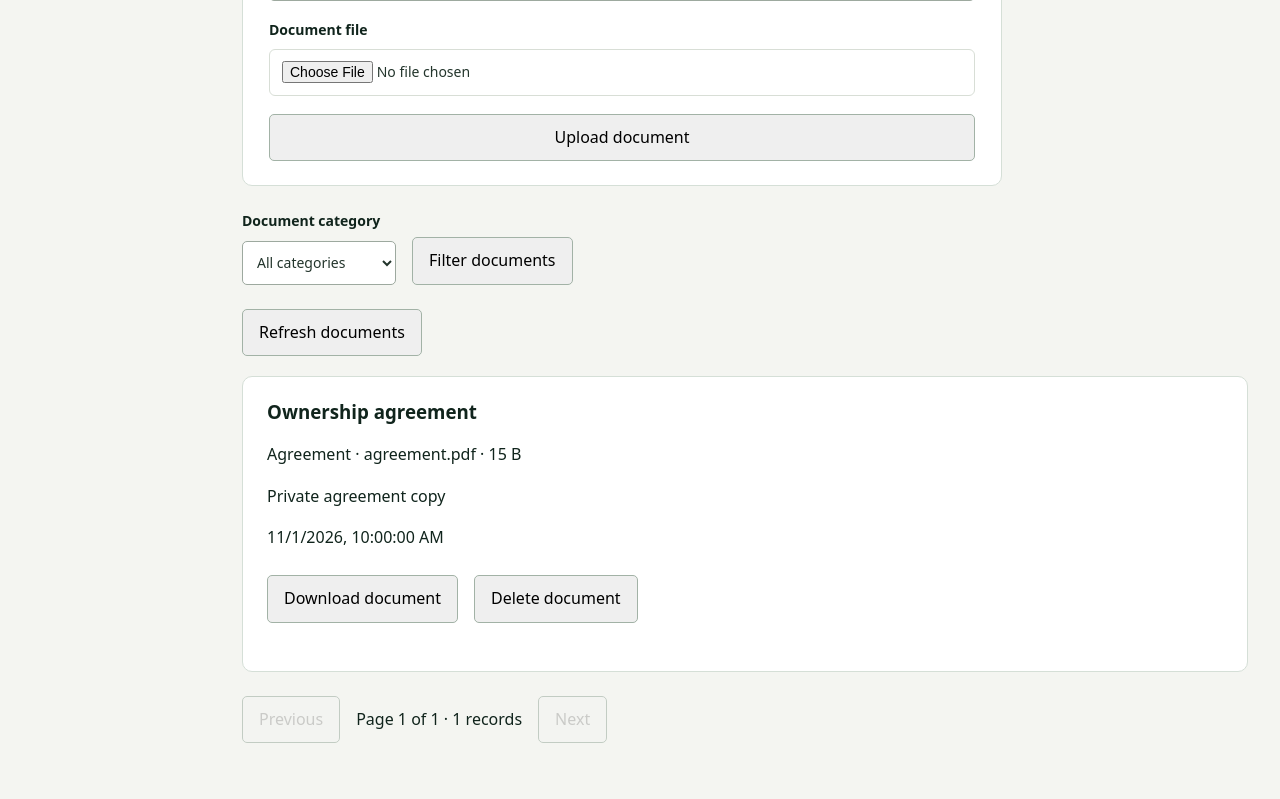
Test: deletes once, reloads the list and reports successful removal
(page scrolled)
Click the button "Delete document". click: (556,599)
box: [474,575,638,623]
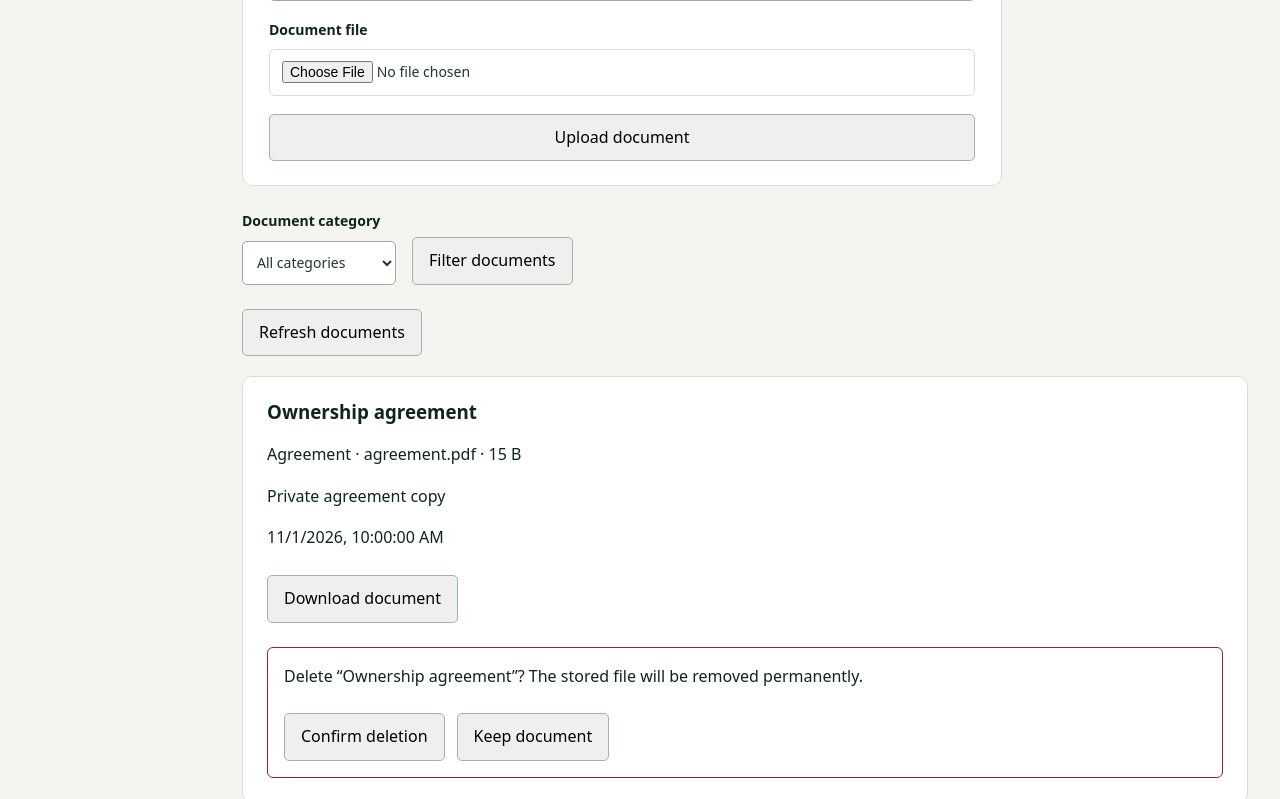
Double-click the button "Confirm deletion" at (364,737), box [284,713,444,761]
(page scrolled)
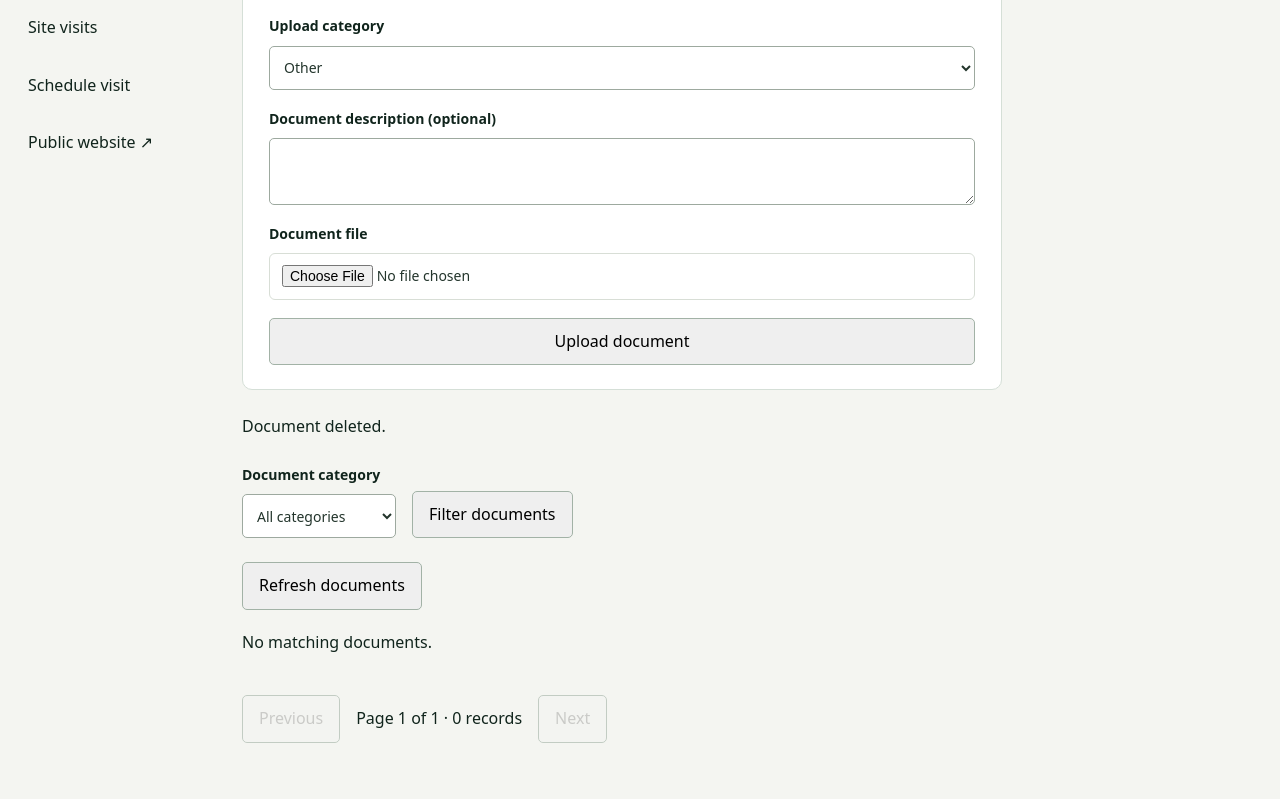
Now the text "Document deleted." is shown, box [242,415,386,437]
Now the text "No matching documents." is shown, box [242,631,432,653]
